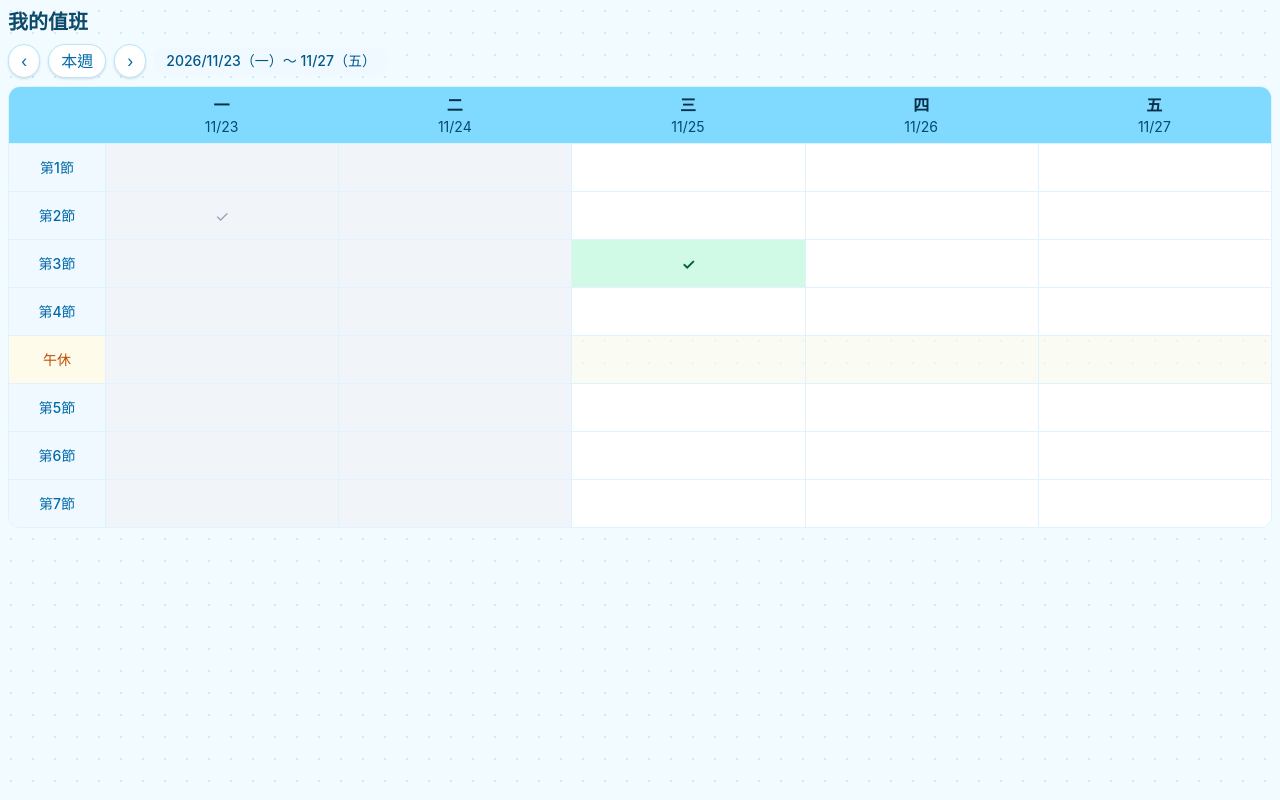
Test case: MyGridPage › shows the action error inline
Click the button "✓": (688, 263) [571, 239, 805, 287]
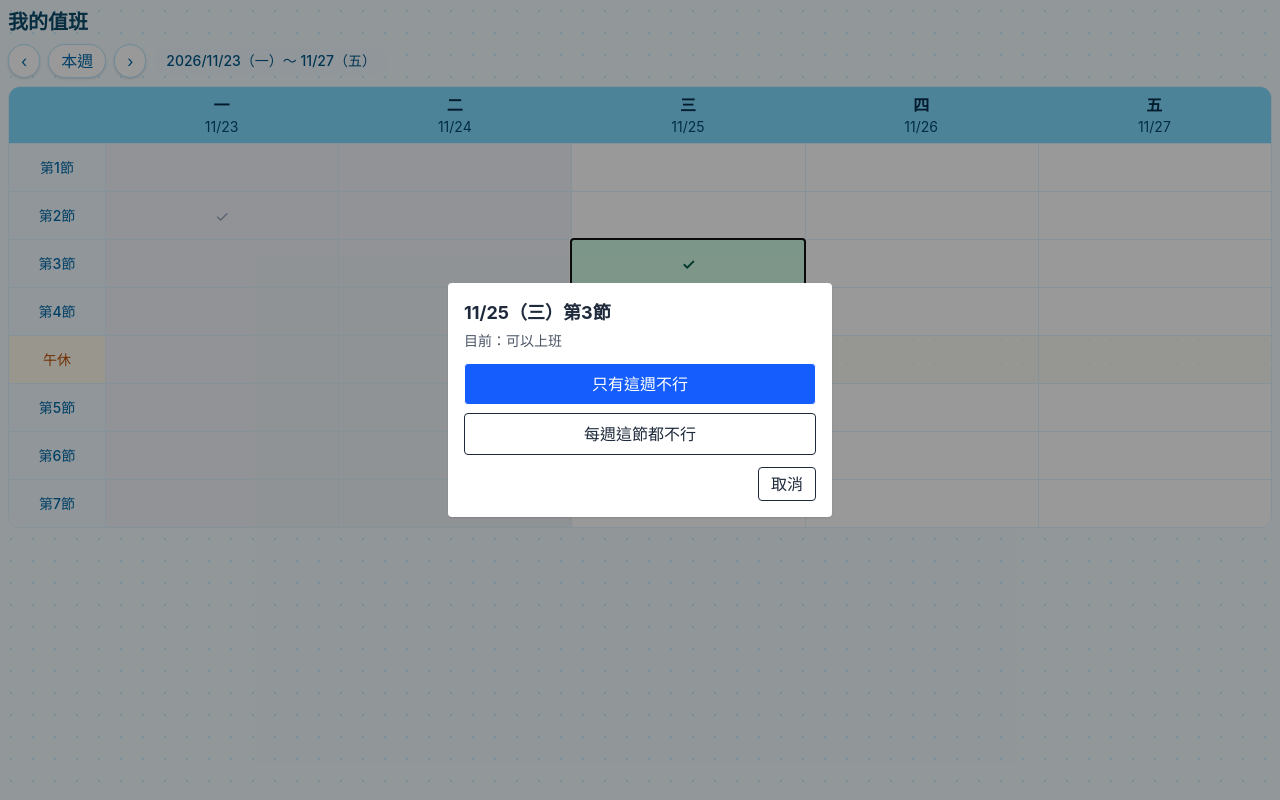
Click the button "只有這週不行": (640, 384) [464, 363, 816, 405]
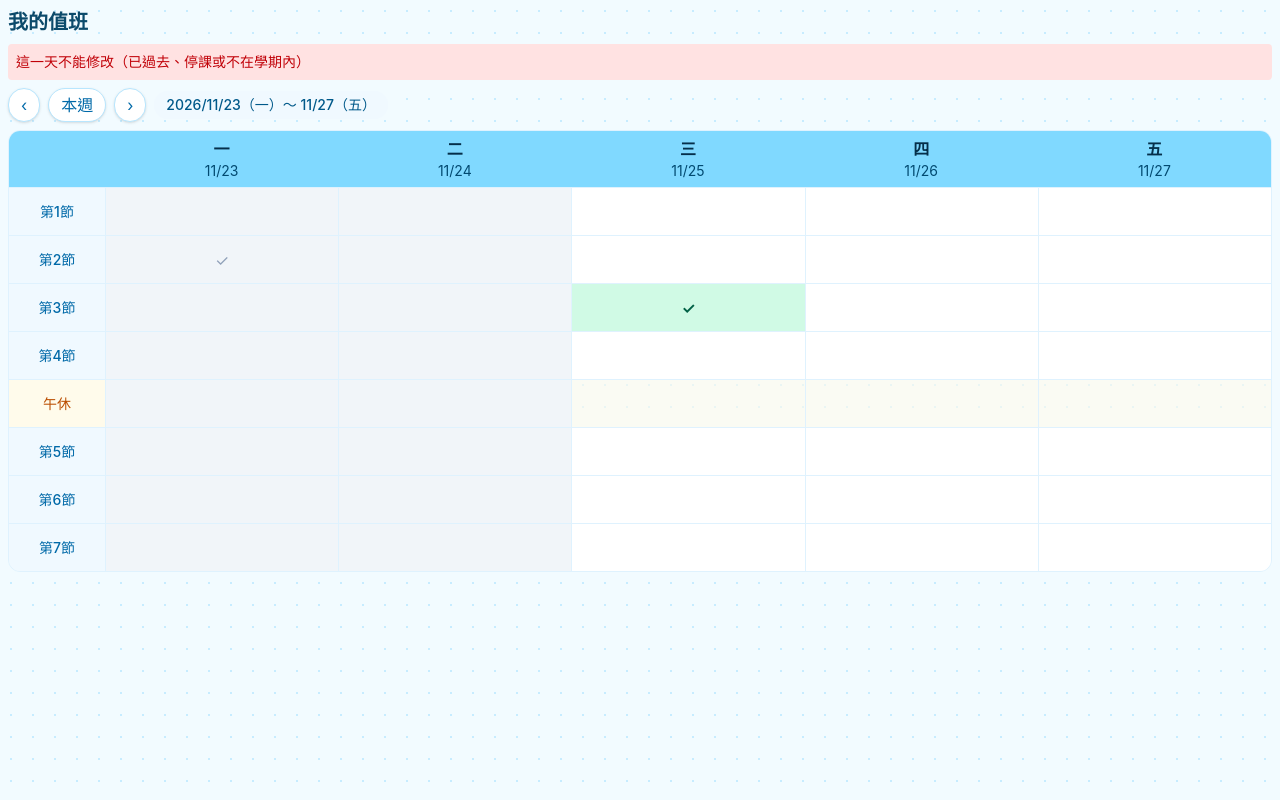
Result: the message shows "這一天不能修改" at [16, 53, 310, 70]
